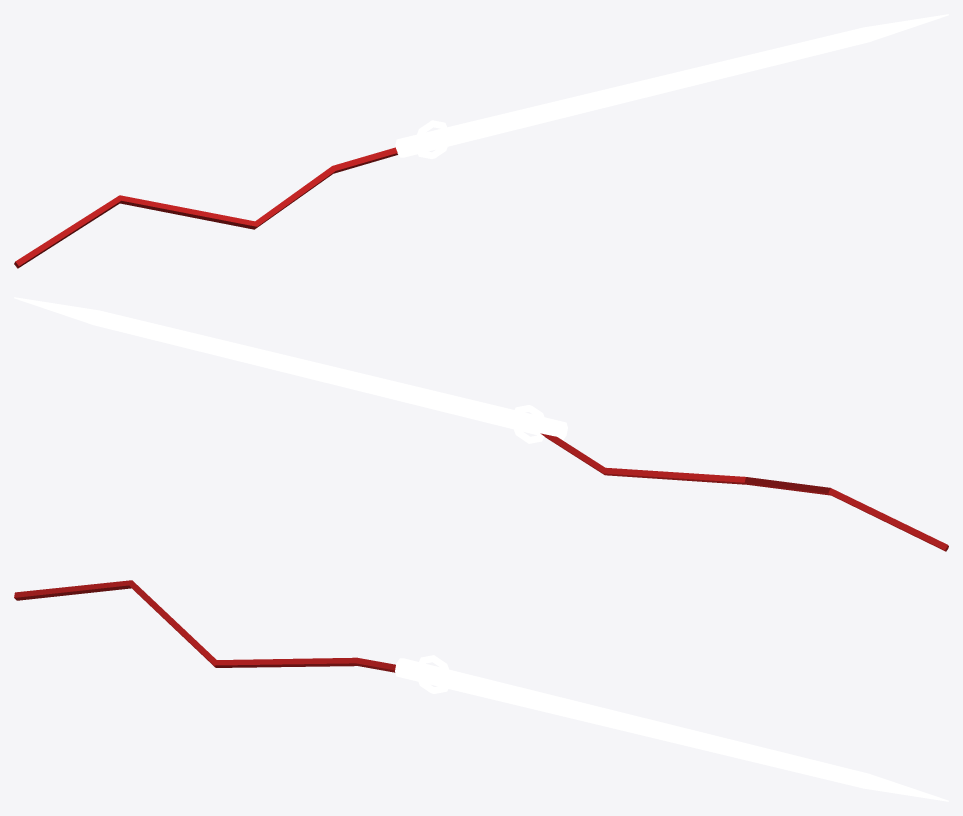
File: respawn_needle.glb
3 views of the same model, one above another, from view 1: azimuth 30°, elevation 25°; view 2: azimuth 150°, elevation 25°; view 3: azimuth 330°, elevation 25° (orthographic).
Parts seen in each view (by area): view 1: respawn_needle; view 2: respawn_needle; view 3: respawn_needle.
Boxes of the visible parts, x1,y1,x2,y2 form: respawn_needle: [14, 14, 948, 268]; respawn_needle: [14, 297, 948, 551]; respawn_needle: [14, 580, 948, 801].
Size of the model in its own units: 0.1702 by 0.0081 by 0.0114.
